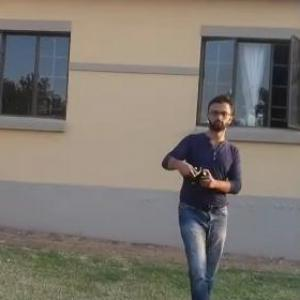follow: (154, 87, 246, 299)
